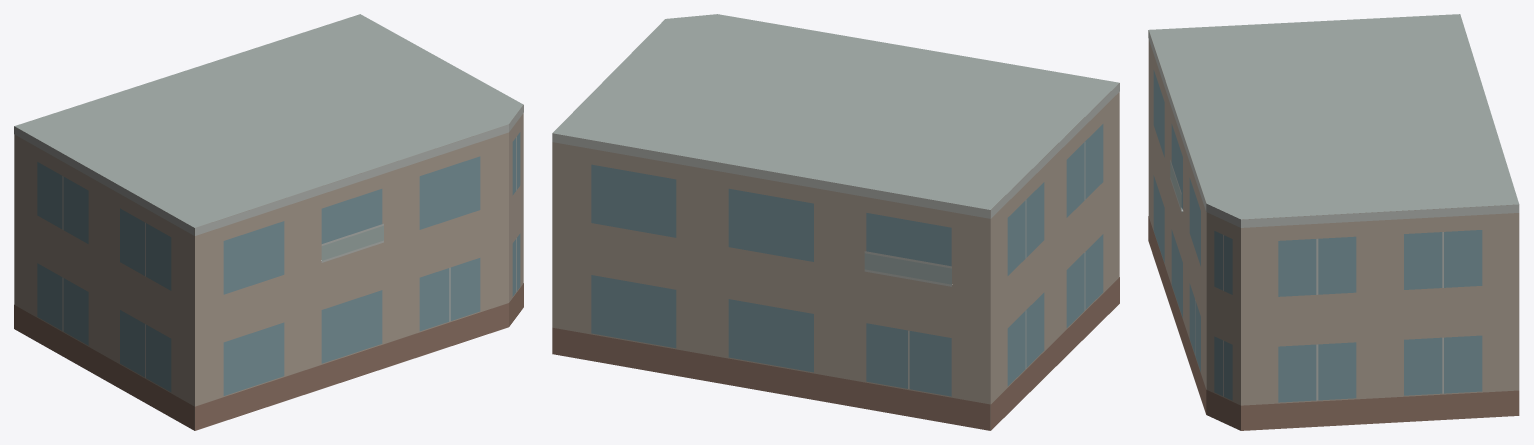
The model's file is survey-upis-32674506.glb.
The picture shows the model from 3 angles, left to right: view 1: azimuth 30°, elevation 25°; view 2: azimuth 150°, elevation 25°; view 3: azimuth 270°, elevation 25°; orthographic projection. The views are drawn at different scales.
Visible parts, largest first — view 1: survey-upis-32674506.tmp; view 2: survey-upis-32674506.tmp; view 3: survey-upis-32674506.tmp.
Part boxes in pixels (bbox=[...]): survey-upis-32674506.tmp: bbox=[14, 14, 523, 430]; survey-upis-32674506.tmp: bbox=[552, 14, 1119, 430]; survey-upis-32674506.tmp: bbox=[1148, 14, 1519, 430].
Size of the model in its own units: 12.73 by 6.1 by 9.71.
